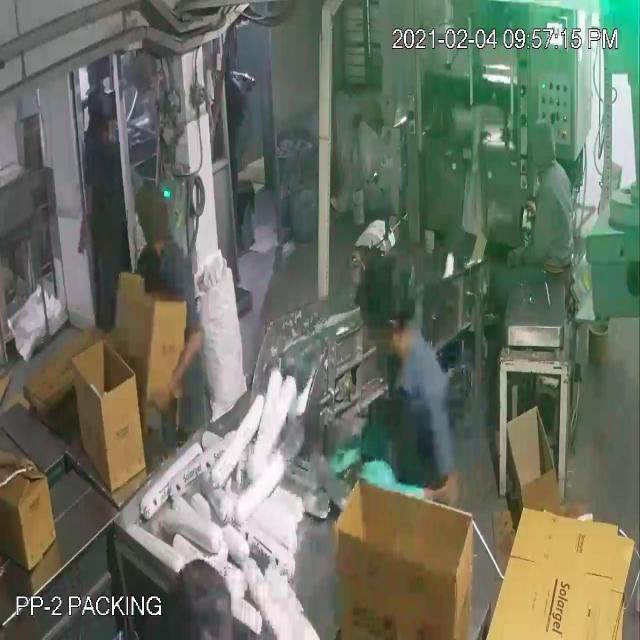No_Gloves: (30, 84, 176, 358)
